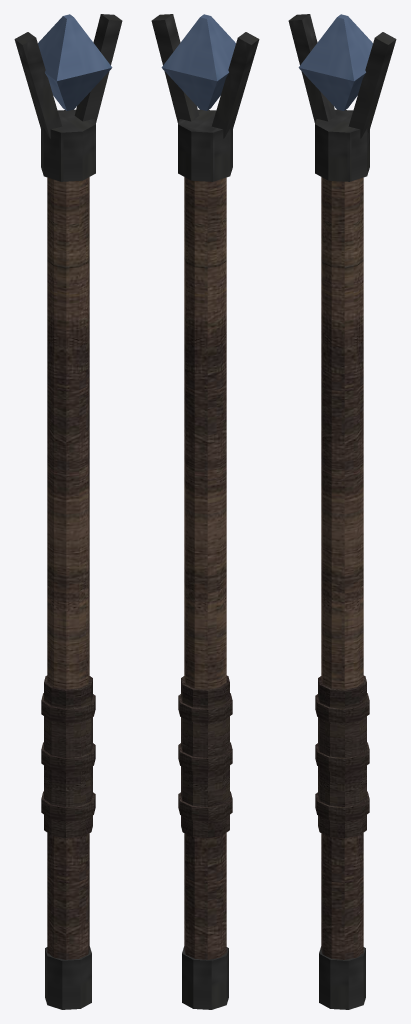
Rendered from wpn_staff_starter.glb.
3 renders of one model, left to right at view 1: azimuth 30°, elevation 25°; view 2: azimuth 150°, elevation 25°; view 3: azimuth 330°, elevation 25°, orthographic.
Visible parts, largest first — view 1: wpn_staff_starter; view 2: wpn_staff_starter; view 3: wpn_staff_starter.
Part boxes in pixels (left/top/right/bottom): wpn_staff_starter: left=14, top=14, right=122, bottom=1009; wpn_staff_starter: left=151, top=14, right=259, bottom=1009; wpn_staff_starter: left=288, top=14, right=396, bottom=1009.
Bounding box in the file's own units: 0.17 × 1.6 × 0.095.
4 materials, 4 textured.
